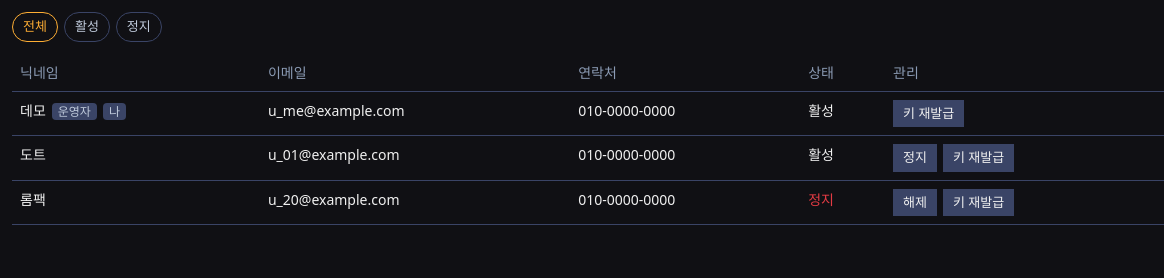
Test: UsersPanel › 정지는 한 번 더 확인한 뒤 보내고, 취소하면 보내지 않는다
Click the button "정지" in the row of "도트". click: [915, 158]
box: [893,144,937,172]
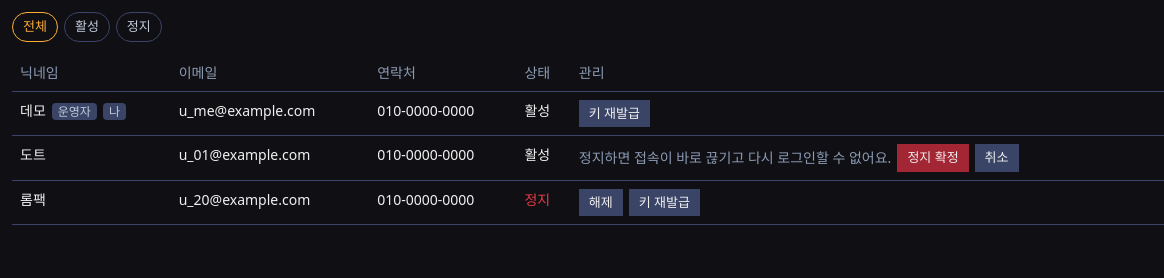
Expected: the row with test id "admin-user-row" shows "다시 로그인할 수 없어요", [579,148,891,167]
Click the button "취소". click: [997, 158]
box: [975,144,1018,172]
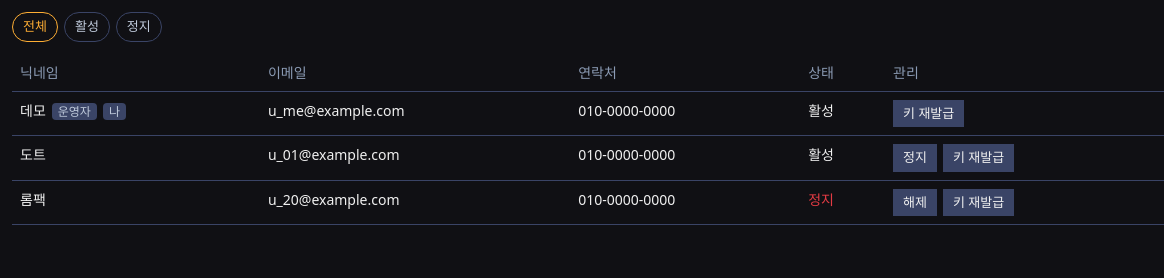
Click the button "정지" in the row of "도트". click: [915, 158]
box: [893,144,937,172]
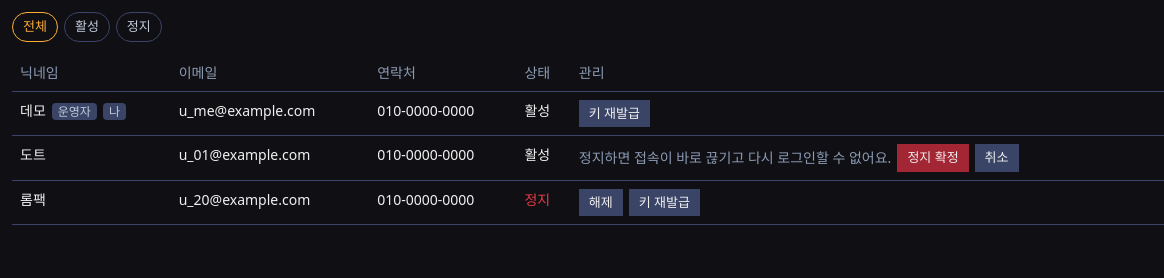
Click the button "정지 확정". click: [933, 158]
box: [897,144,969,172]
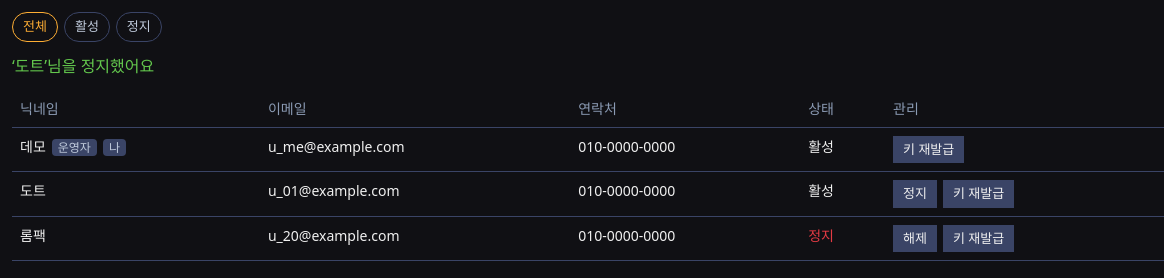
Expected: the message reads "‘도트’님을 정지했어요", [12,54,154,76]
